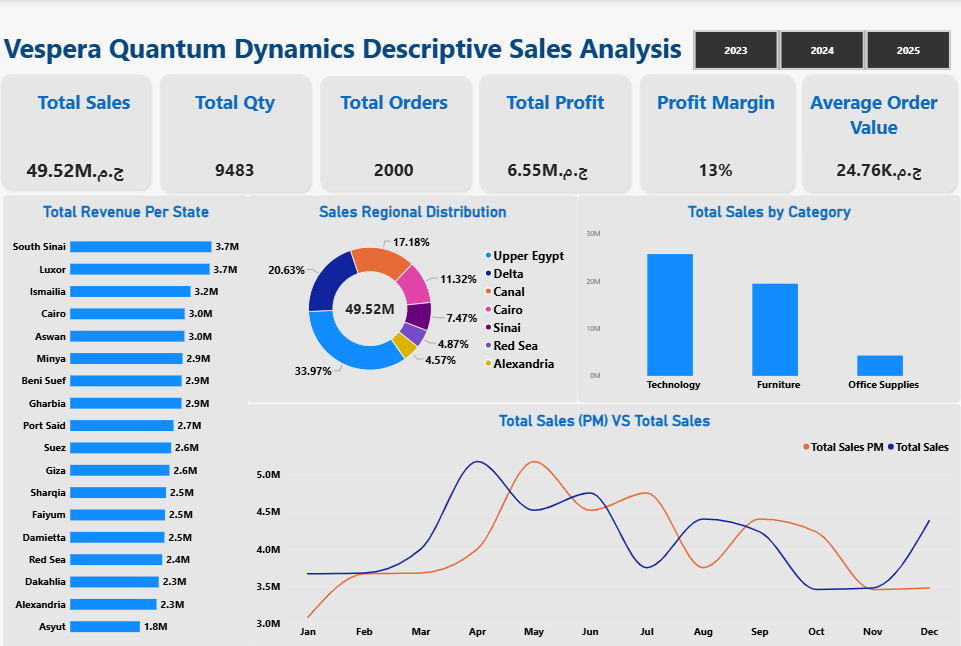

The dashboard page shown, as its layout file describes it:
{"tool":"powerbi","page":{"name":"Page 1","canvas":[2500,1300],"ordinal":0},"visuals":[{"type":"shape","box":[1260,80,320,255],"z":2000},{"type":"shape","box":[617.5,80,320,255],"z":3000},{"type":"shape","box":[940,85,320,250],"z":4000},{"type":"shape","box":[300.5,81.1,317.5,250],"z":5000},{"type":"shape","box":[1580,80,327.5,255],"z":6000},{"type":"textbox","box":[315.5,0,1917,186.3],"z":7000},{"type":"cardVisual","fields":{"Data":["DAX.Total Sales"]},"box":[315,252.5,287.5,57.5],"z":8000},{"type":"cardVisual","fields":{"Data":["DAX.Total Profit"]},"box":[1262.5,252.5,287.5,57.5],"z":9000},{"type":"cardVisual","fields":{"Data":["DAX.Total Orders"]},"box":[952.5,252.5,290,57.5],"z":10000},{"type":"cardVisual","fields":{"Data":["DAX.Total Quantity"]},"box":[632.5,252.5,290,57.5],"z":11000},{"type":"cardVisual","fields":{"Data":["DAX.Profit Margin"]},"box":[1597.5,252.5,287.5,57.5],"z":12000},{"type":"textbox","box":[332.5,120,285,62.5],"z":13000},{"type":"textbox","box":[1597.5,120,287.5,62.5],"z":14000},{"type":"textbox","box":[632.5,120,290,62.5],"z":15000},{"type":"textbox","box":[952.5,120,290,62.5],"z":16000},{"type":"textbox","box":[1262.5,120,317.5,62.5],"z":17000},{"type":"shape","box":[1905,80,327.5,255],"z":18000},{"type":"cardVisual","fields":{"Data":["DAX.Average Order Value"]},"box":[1925,252.5,287.5,57.5],"z":19000},{"type":"textbox","box":[1905,120,307.5,132.5],"z":20000},{"type":"barChart","title":"Total Revenue Per State","fields":{"Category":["Location dim table.State"],"Y":["Sum(Fact Table.Sales)"]},"box":[315.5,333.5,489.8,910.4],"z":21000},{"type":"columnChart","title":"Total Sales by Category","fields":{"Category":["Product dim table.Category"],"Y":["Sum(Fact Table.Sales)"]},"box":[1466.3,333.5,766.2,414.6],"z":22000},{"type":"donutChart","title":"Sales Regional Distribution","fields":{"Category":["Location dim table.Region"],"Y":["DAX.Total Sales"]},"box":[805,335,660,415],"z":23000},{"type":"lineChart","title":"Total Sales (PM) VS Total Sales","fields":{"Category":["Calendar Date.Month Name"],"Y":["DAX.Total Sales PM","DAX.Total Sales"]},"box":[805.3,751.2,1427.2,492.8],"z":24000},{"type":"slicer","fields":{"Values":["Calendar Date.Year"]},"box":[1676.6,0,555.9,84.1],"z":25000}]}

Visuals, with their boxes on the page's 2500x1300 design canvas (x1, y1, x2, y2). These are canvas units, not pixel positions in the 961x646 screenshot, which may show the page scaled, cropped or inside an application window:
shape: [left=1260, top=80, right=1580, bottom=335]
shape: [left=618, top=80, right=938, bottom=335]
shape: [left=940, top=85, right=1260, bottom=335]
shape: [left=300, top=81, right=618, bottom=331]
shape: [left=1580, top=80, right=1908, bottom=335]
textbox: [left=316, top=0, right=2232, bottom=186]
cardVisual - DAX.Total Sales: [left=315, top=252, right=602, bottom=310]
cardVisual - DAX.Total Profit: [left=1262, top=252, right=1550, bottom=310]
cardVisual - DAX.Total Orders: [left=952, top=252, right=1242, bottom=310]
cardVisual - DAX.Total Quantity: [left=632, top=252, right=922, bottom=310]
cardVisual - DAX.Profit Margin: [left=1598, top=252, right=1885, bottom=310]
textbox: [left=332, top=120, right=618, bottom=182]
textbox: [left=1598, top=120, right=1885, bottom=182]
textbox: [left=632, top=120, right=922, bottom=182]
textbox: [left=952, top=120, right=1242, bottom=182]
textbox: [left=1262, top=120, right=1580, bottom=182]
shape: [left=1905, top=80, right=2232, bottom=335]
cardVisual - DAX.Average Order Value: [left=1925, top=252, right=2212, bottom=310]
textbox: [left=1905, top=120, right=2212, bottom=252]
"Total Revenue Per State" barChart: [left=316, top=334, right=805, bottom=1244]
"Total Sales by Category" columnChart: [left=1466, top=334, right=2232, bottom=748]
"Sales Regional Distribution" donutChart: [left=805, top=335, right=1465, bottom=750]
"Total Sales (PM) VS Total Sales" lineChart: [left=805, top=751, right=2232, bottom=1244]
slicer - Calendar Date.Year: [left=1677, top=0, right=2232, bottom=84]
